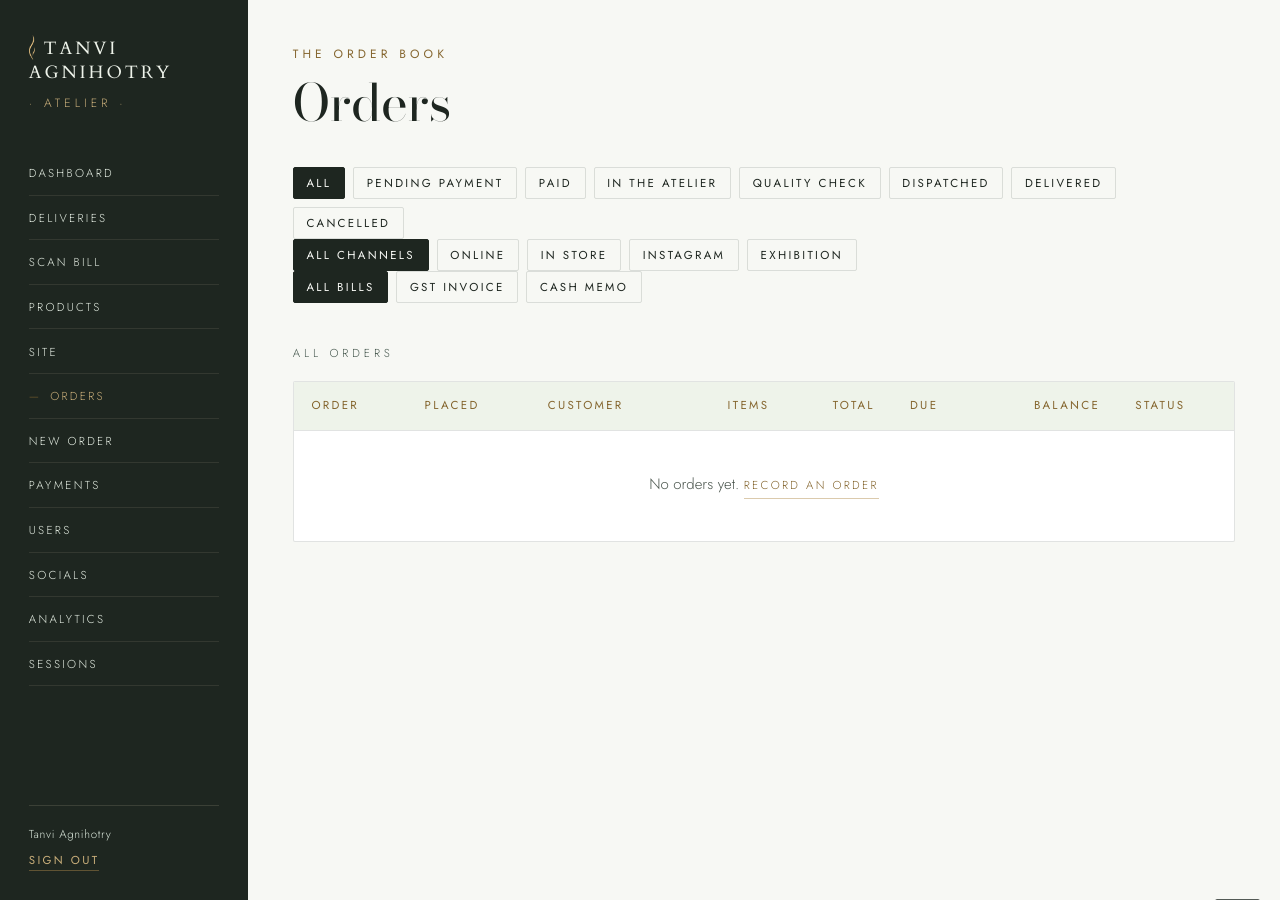
Test: Orders › filters orders via status chips
Expected: the text "No orders yet. Record an order" is shown, [294,430,1234,541]
Click the button "Dispatched" at (946, 183), box [889,167,1003,199]
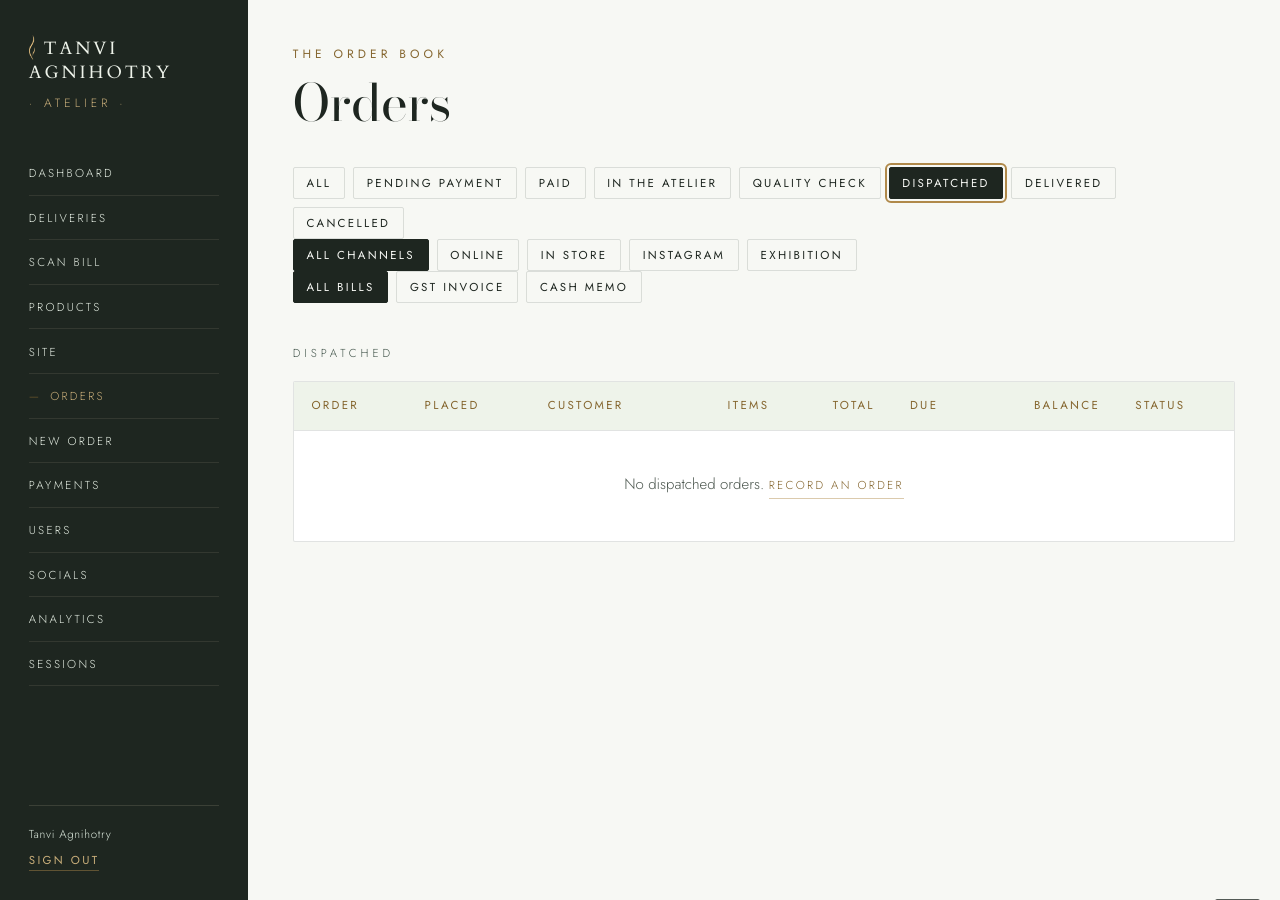
Expected: the link "Record an order" is shown, [769,475,904,499]
Expected: the text "No dispatched orders. Record an order" is shown, [294,430,1234,541]
